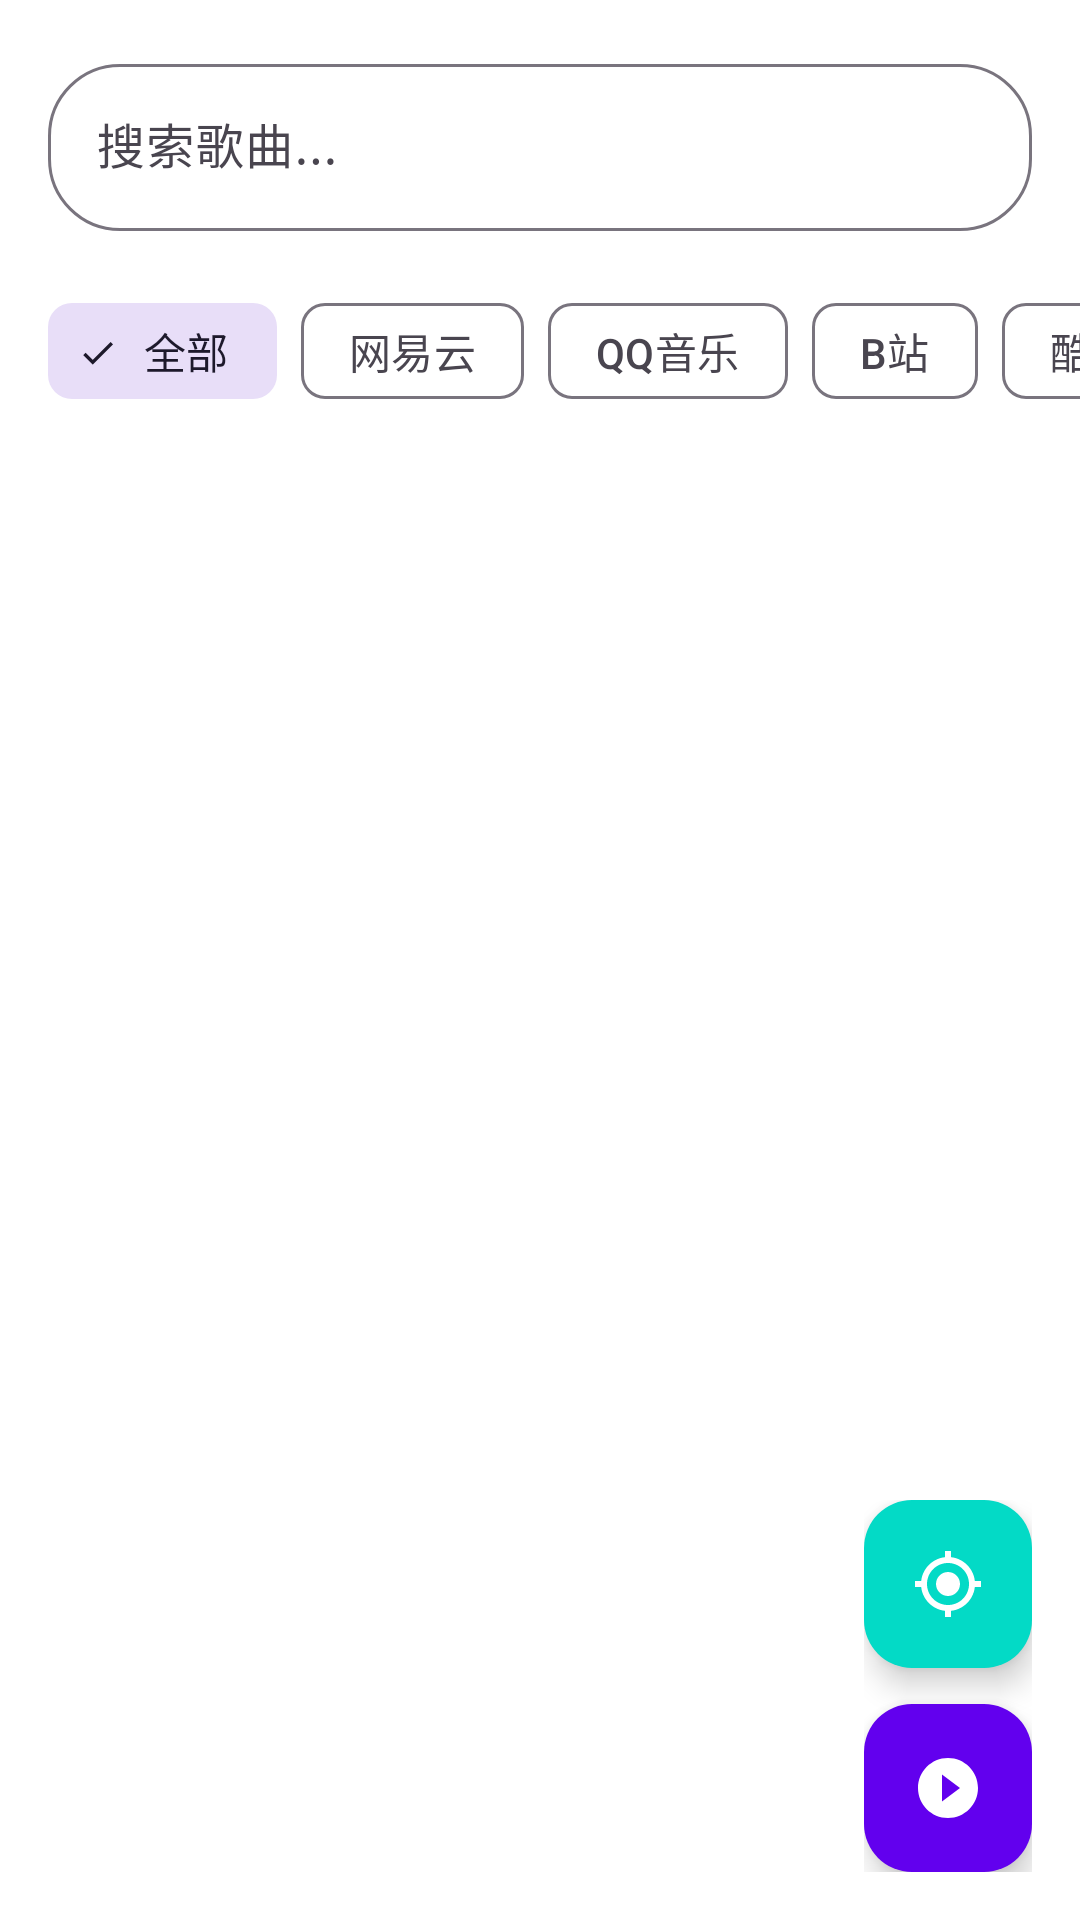

Icons on this 1080x1920 Android screen, each with the point to tap as point (x, y):
Play All: point (948, 1788)
定位当前歌曲: point (948, 1584)
